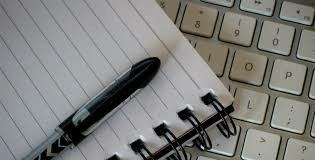pen: (28, 54, 166, 160)
